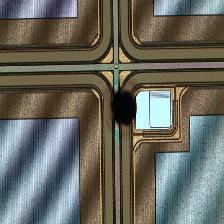PARTICLE: (109, 86, 141, 129)
